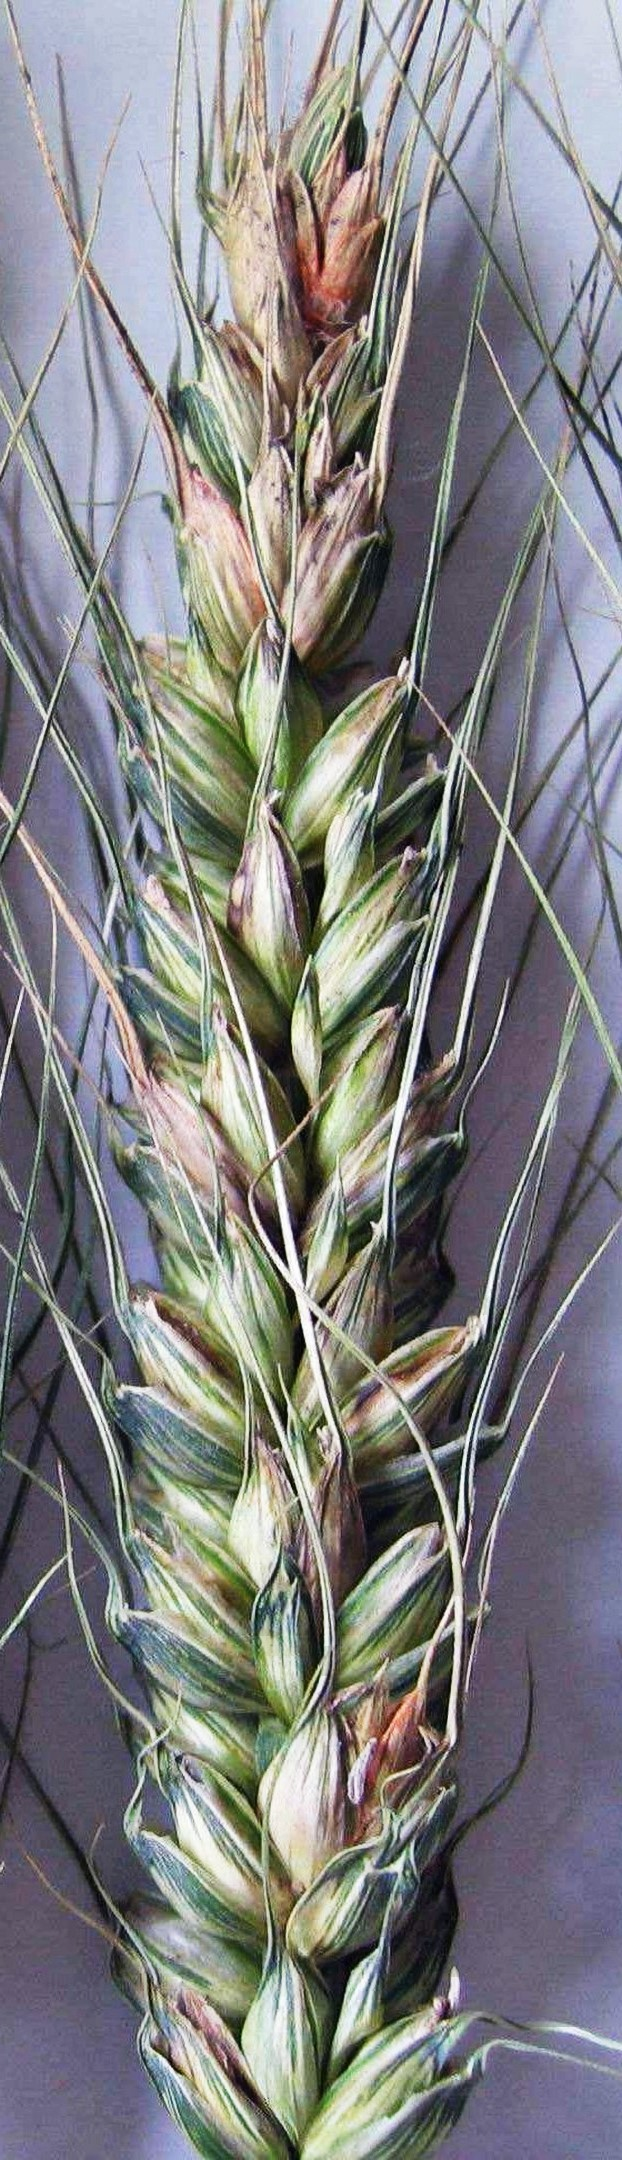Wheat scab: (50, 83, 583, 2160)
